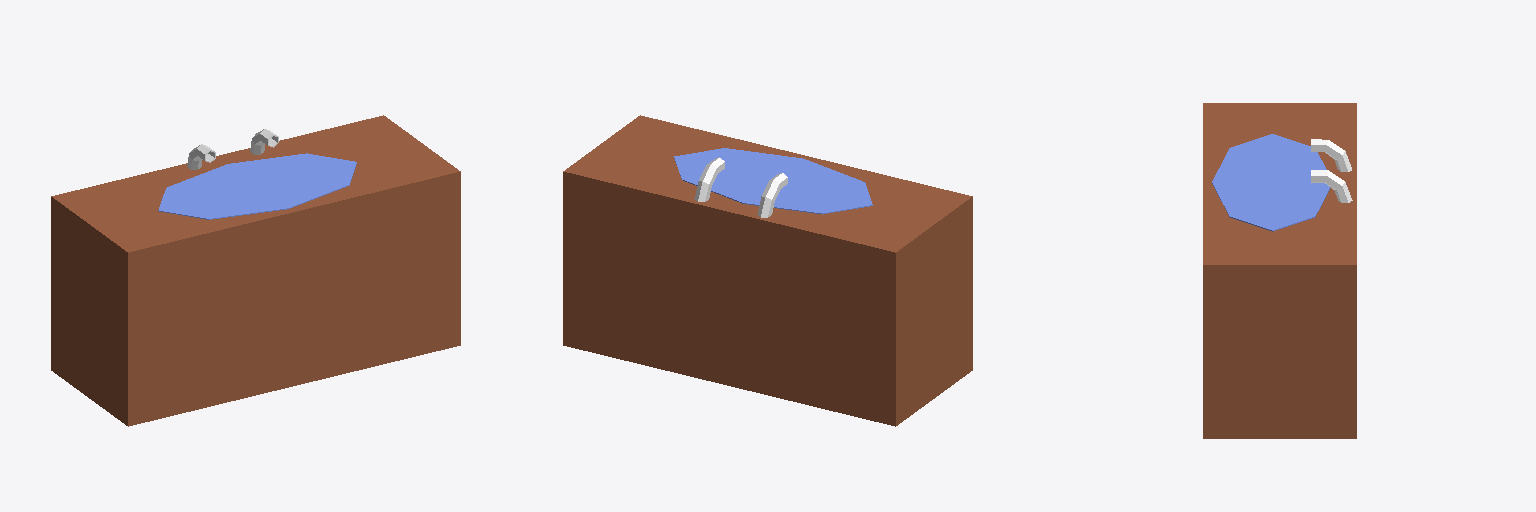
The model's file is Sink.obj.
3 views of the same model, side by side, from view 1: azimuth 30°, elevation 25°; view 2: azimuth 150°, elevation 25°; view 3: azimuth 270°, elevation 25° (orthographic).
Visible parts, largest first — view 1: Sink; view 2: Sink; view 3: Sink.
Part boxes in pixels (bbox=[...]): Sink: bbox=[51, 115, 460, 426]; Sink: bbox=[563, 115, 972, 426]; Sink: bbox=[1203, 103, 1356, 438].
Bounding box in the file's own units: 2 × 1.17 × 0.8.